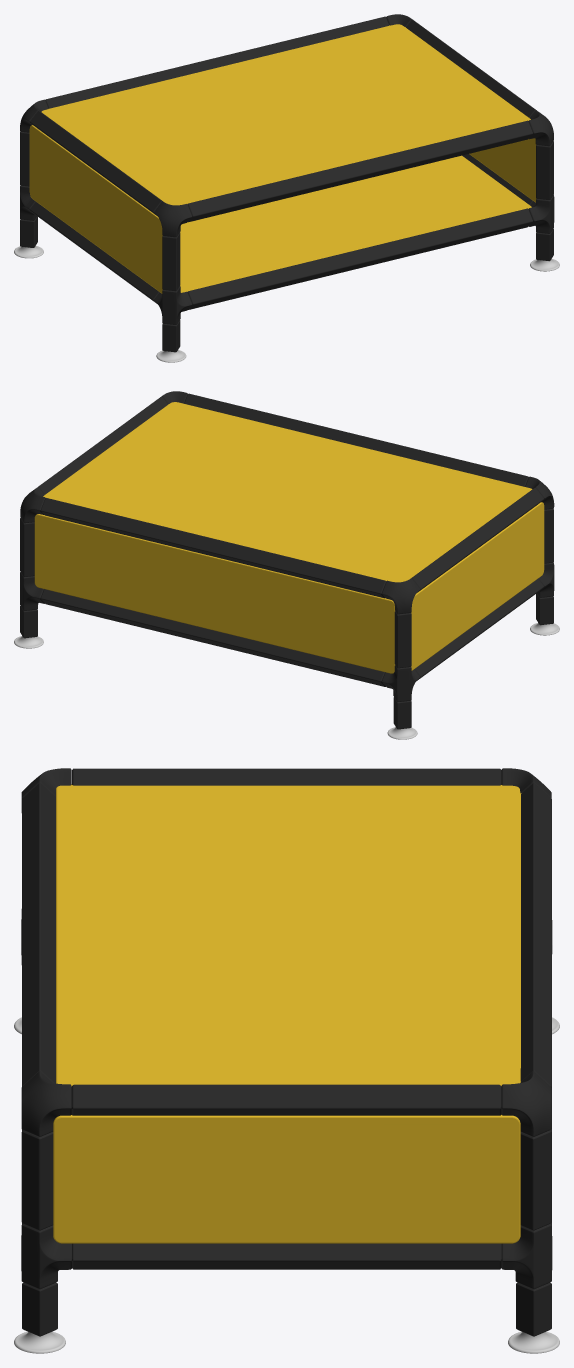
3 renders of one model, top to bottom at view 1: azimuth 30°, elevation 25°; view 2: azimuth 150°, elevation 25°; view 3: azimuth 270°, elevation 25°, orthographic. The views are drawn at different scales.
Parts seen in each view (by area): view 1: 523x329x79; view 2: 523x329x79; view 3: 523x329x79.
Boxes of the visible parts, bbox=[...] form: 523x329x79: bbox=[14, 14, 559, 362]; 523x329x79: bbox=[14, 391, 559, 739]; 523x329x79: bbox=[14, 768, 559, 1353].
Size of the model in its own units: 0.6129 by 0.2183 by 0.4182.
